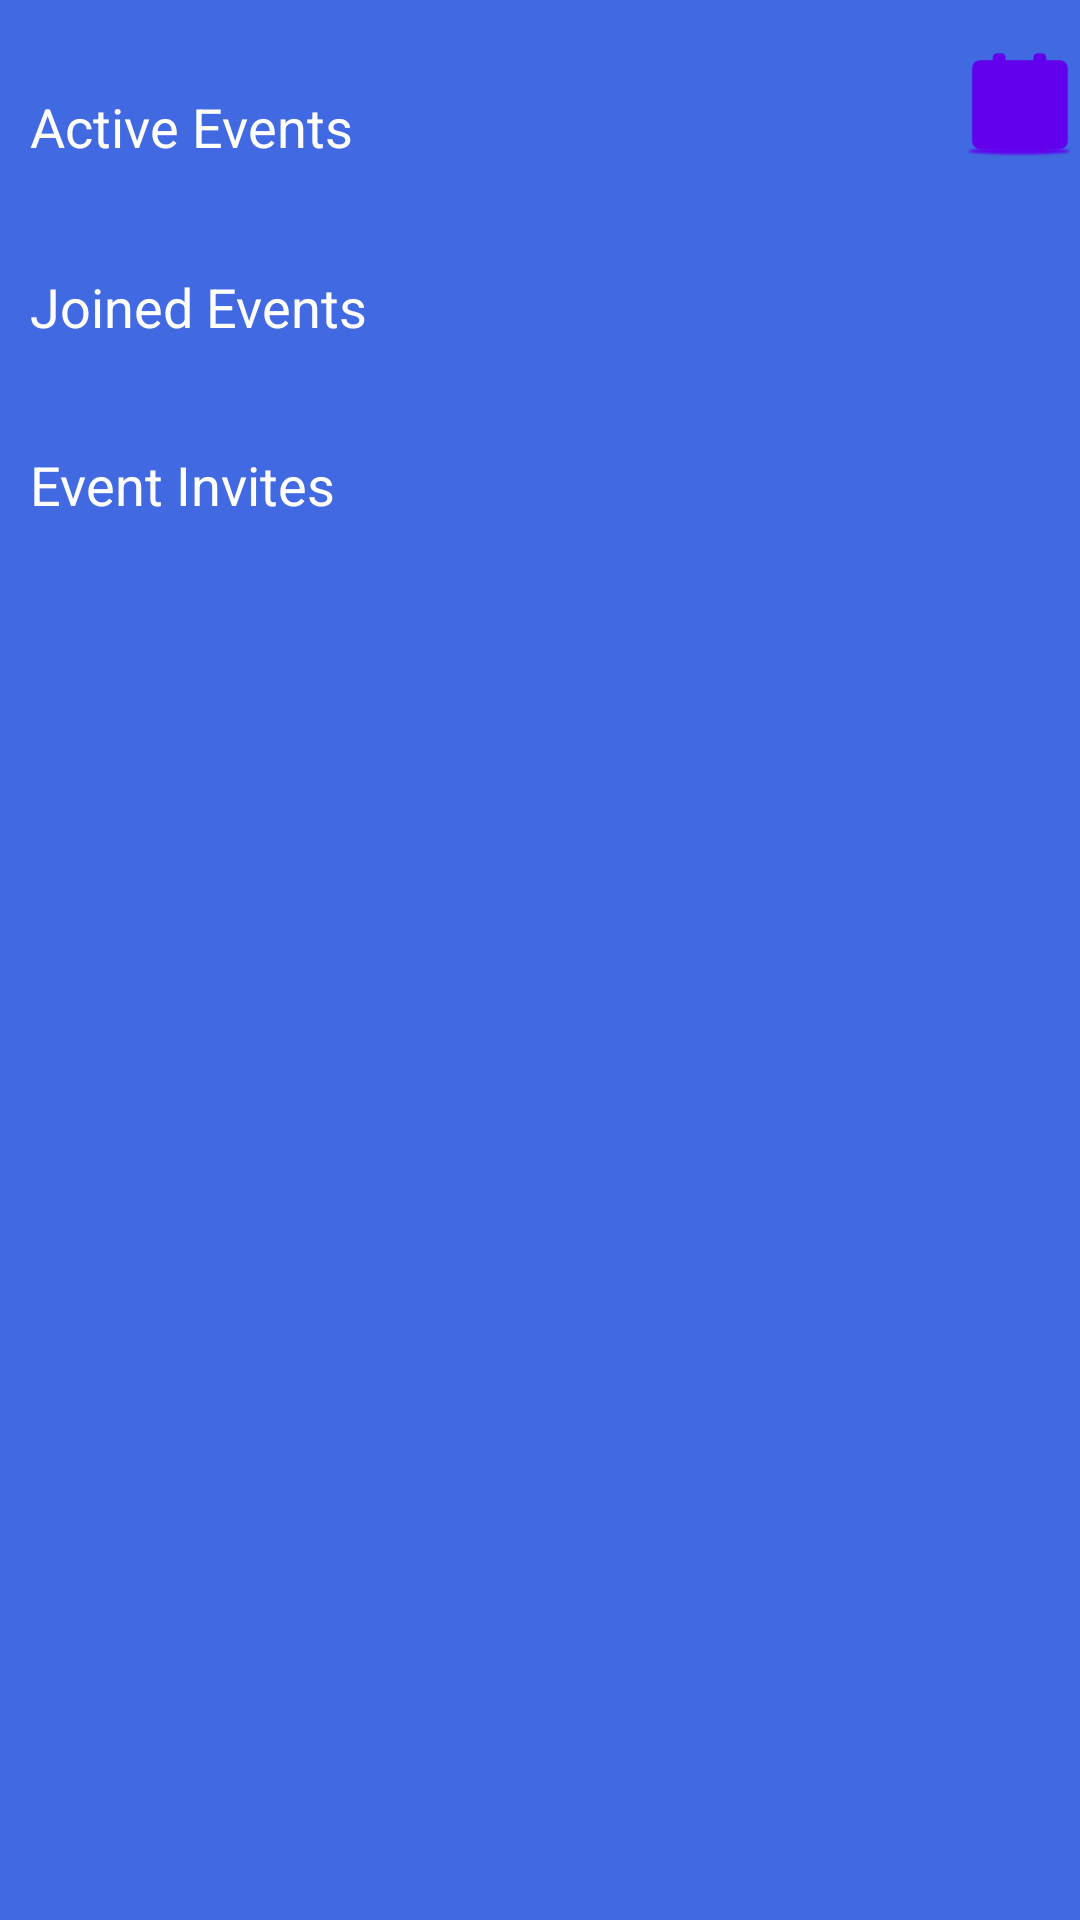

Named icons in this screenshot (1080x1920) and their centers, [x,y]:
createevent: [1019,104]
